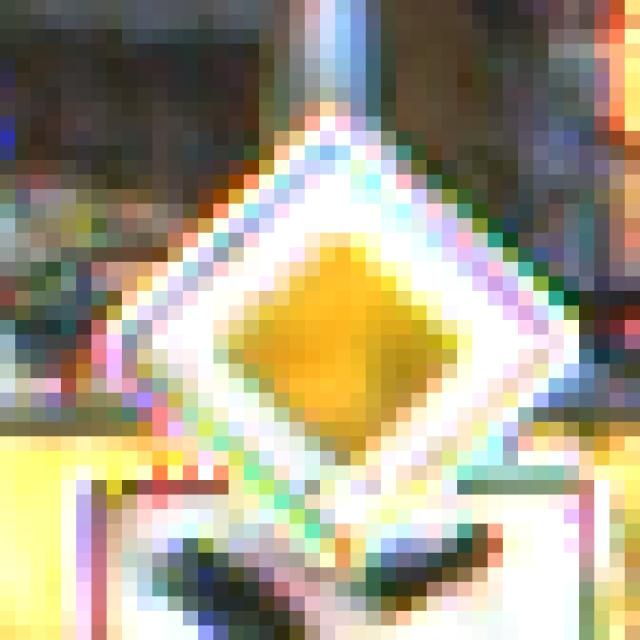Main Road: (92, 74, 565, 554)
